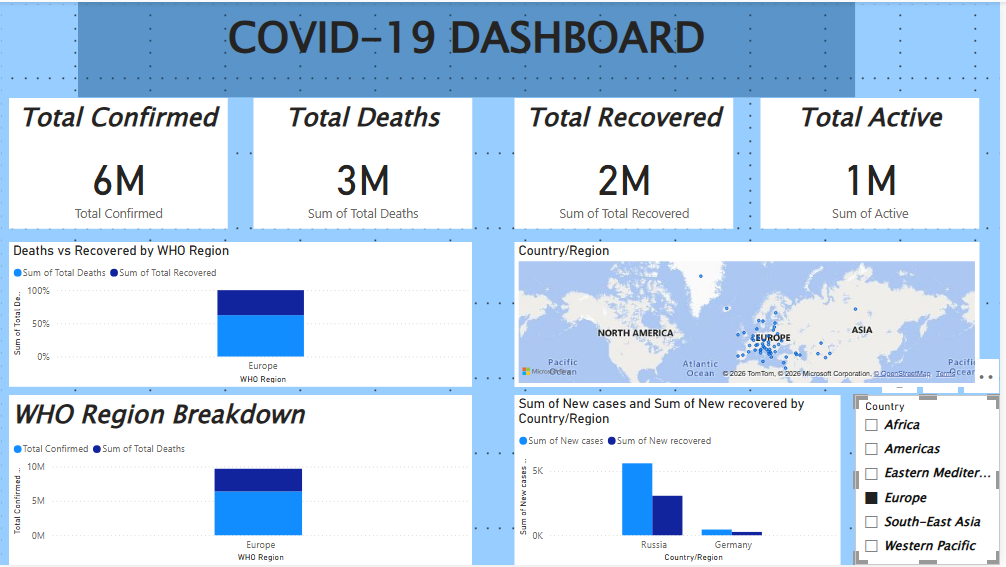

The dashboard page shown, as its layout file describes it:
{"tool":"powerbi","page":{"name":"Page 1","canvas":[1280,720],"ordinal":0},"visuals":[{"type":"card","title":"Total Confirmed","fields":{"Values":["country_wise_latest.Total Confirmed"]},"box":[11,122.1,279.9,167.4],"z":0},{"type":"card","title":"Total Deaths","fields":{"Values":["Sum(country_wise_latest.Total Deaths)"]},"box":[323.8,122.1,279.9,167.4],"z":1000},{"type":"card","title":"Total Recovered","fields":{"Values":["Sum(country_wise_latest.Total Recovered)"]},"box":[658.7,122.1,279.9,167.4],"z":2000},{"type":"card","title":"Total Active","fields":{"Values":["Sum(country_wise_latest.Active)"]},"box":[972.9,122.1,279.9,167.4],"z":3000},{"type":"columnChart","title":" WHO Region Breakdown ","fields":{"Category":["country_wise_latest.WHO Region"],"Y":["country_wise_latest.Total Confirmed","Sum(country_wise_latest.Total Deaths)"]},"box":[11,502.2,592.8,218.2],"z":4000},{"type":"clusteredColumnChart","fields":{"Y":["Sum(country_wise_latest.New cases)","Sum(country_wise_latest.New recovered)"],"Category":["country_wise_latest.Country/Region"]},"box":[658.7,502.2,417.2,218.2],"z":5000},{"type":"slicer","fields":{"Values":["country_wise_latest.WHO Region"]},"box":[1095,502.2,185.2,218.2],"z":6000},{"type":"map","fields":{"Category":["country_wise_latest.Country/Region"]},"box":[658.7,307.4,594.2,185.2],"z":7000},{"type":"hundredPercentStackedColumnChart","title":"Deaths vs Recovered by WHO Region","fields":{"Y":["Sum(country_wise_latest.Total Deaths)","Sum(country_wise_latest.Total Recovered)"],"Category":["country_wise_latest.WHO Region"]},"box":[11,307.4,592.8,185.2],"z":8000},{"type":"textbox","box":[100.2,0,994.9,122.1],"z":9000}]}

Visuals, with their boxes in screenshot pixels (x1, y1, x2, y2), scaled from the page's 1280x720 canvas onto the 1006x567 screenshot:
"Total Confirmed" card: {"x1": 9, "y1": 96, "x2": 229, "y2": 228}
"Total Deaths" card: {"x1": 254, "y1": 96, "x2": 474, "y2": 228}
"Total Recovered" card: {"x1": 518, "y1": 96, "x2": 738, "y2": 228}
"Total Active" card: {"x1": 765, "y1": 96, "x2": 985, "y2": 228}
" WHO Region Breakdown " columnChart: {"x1": 9, "y1": 395, "x2": 475, "y2": 566}
clusteredColumnChart - Sum(country_wise_latest.New cases) x Sum(country_wise_latest.New recovered): {"x1": 518, "y1": 395, "x2": 846, "y2": 566}
slicer - country_wise_latest.WHO Region: {"x1": 861, "y1": 395, "x2": 1005, "y2": 566}
map - country_wise_latest.Country/Region: {"x1": 518, "y1": 242, "x2": 985, "y2": 388}
"Deaths vs Recovered by WHO Region" hundredPercentStackedColumnChart: {"x1": 9, "y1": 242, "x2": 475, "y2": 388}
textbox: {"x1": 79, "y1": 0, "x2": 861, "y2": 96}
